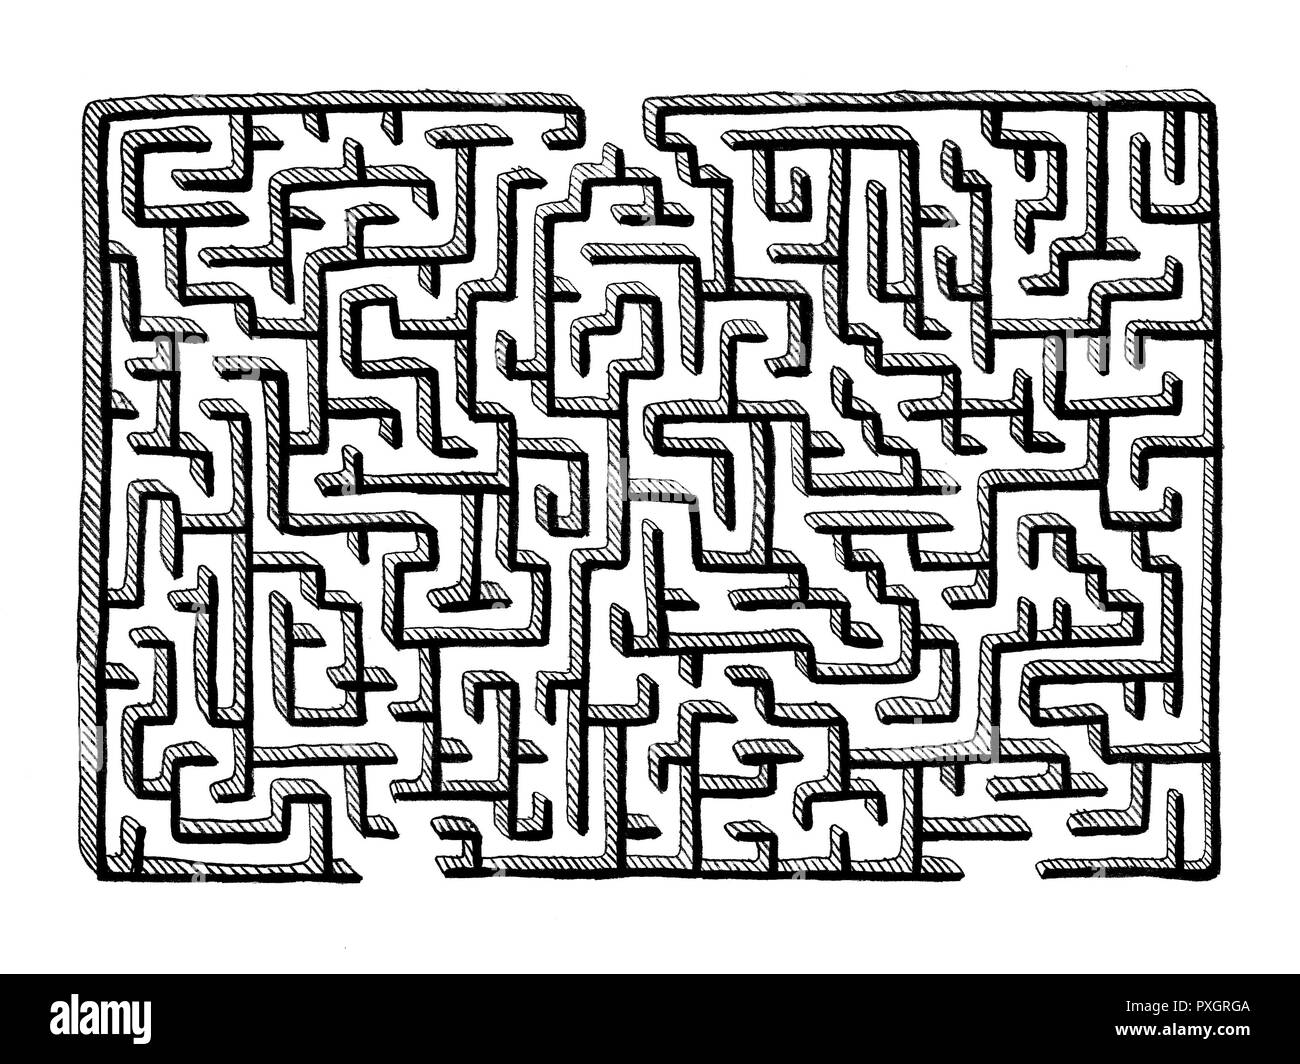maze: (73, 84, 1227, 886)
